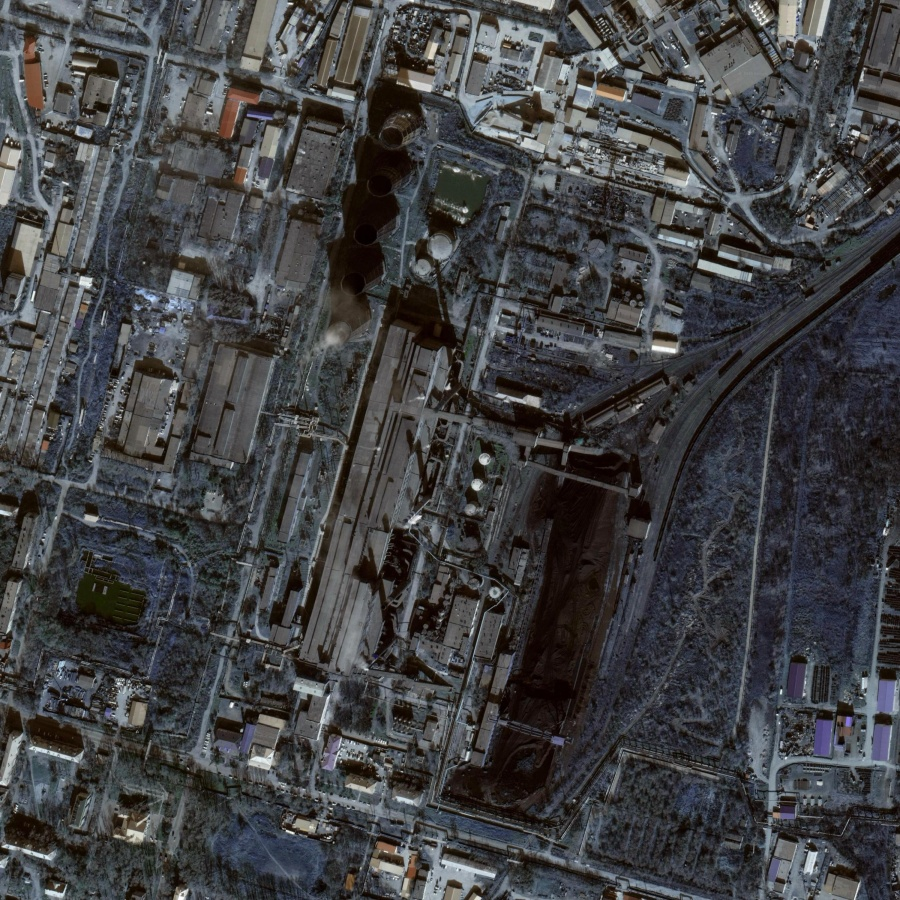PowerPlant: (348, 375, 652, 809), (295, 61, 465, 400)
